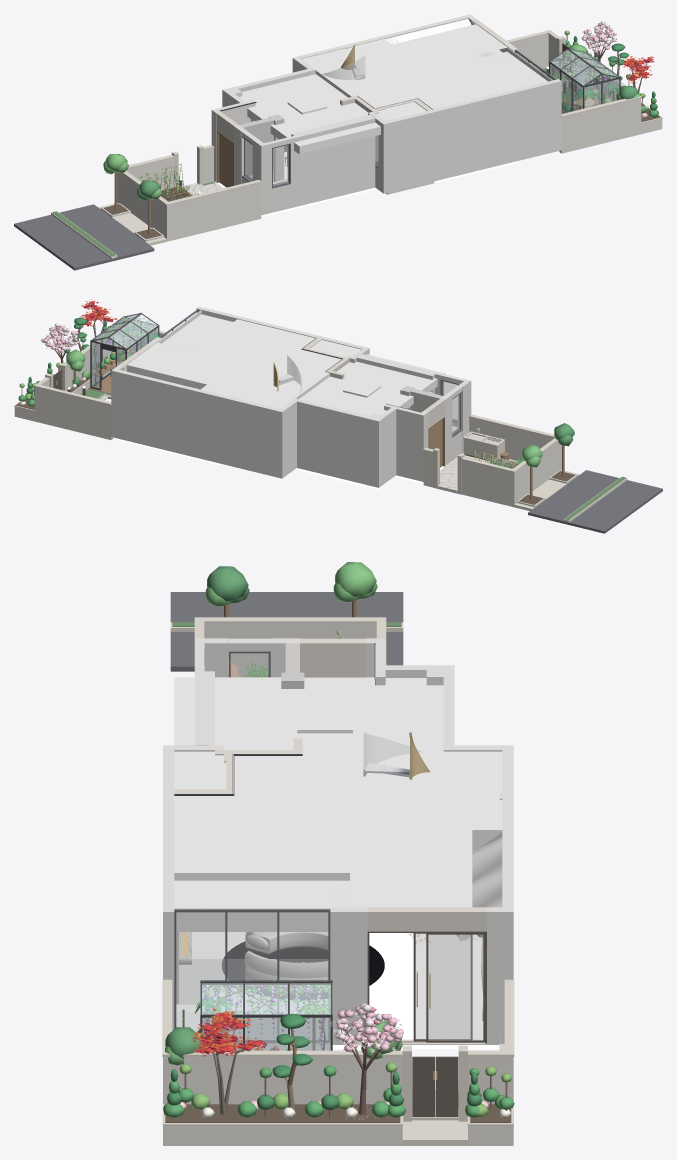
The picture shows the model from 3 angles, top to bottom: view 1: azimuth 30°, elevation 25°; view 2: azimuth 150°, elevation 25°; view 3: azimuth 270°, elevation 25°; orthographic projection. The views are drawn at different scales.
Visible parts, largest first — view 1: 1F_Walls_Manifold_Batch_M4 (×2), 1F_Living_Ceiling_Batch_M47 (×2), 1F_BackGarden_Batch_M96, 1F_BackGarden_Batch_M103, 1F_FrontGarden_Batch_M96, 1F_FrontGarden_Batch_M104 (×2), 1F_BackGarden_Batch_M8, 1F_Kaspar_Ceiling_Batch_M47, 1F_Foyer_Batch_M22, 1F_Walls_Manifold_Batch_M3, 1F_FrontGarden_Batch_M8, 1F_FrontGarden_Batch_M13 (+11 smaller); view 2: 1F_Walls_Manifold_Batch_M4 (×2), 1F_Living_Ceiling_Batch_M47 (×2), 1F_BackGarden_Batch_M96, 1F_BackGarden_Batch_M103, 1F_FrontGarden_Batch_M96, 1F_BackGarden_Batch_M8, 1F_FrontGarden_Batch_M104 (×2), 1F_Kaspar_Ceiling_Batch_M47, 1F_BackGarden_Batch_M18, 1F_FrontGarden_Batch_M8, 1F_FrontGarden_Batch_M13, 1F_Foyer_Batch_M22 (+10 smaller); view 3: 1F_Living_Ceiling_Batch_M47 (×2), 1F_Walls_Manifold_Batch_M4 (×2), 1F_FrontGarden_Batch_M96, 1F_Slab_Batch_M0, 1F_VentShaft_Batch_M3, 1F_FrontGarden_Batch_M104 (×2), 1F_Kaspar_Ceiling_Batch_M47, 1F_FrontGarden_Batch_M8, 1F_BackGarden_Batch_M103, 1F_Front_Entry_Door_LeafN_Glass, 1F_Front_Entry_Door_LeafS_Glass, 1F_VentShaft_Batch_M6 (+23 smaller).
Part boxes in pixels (x1,y1,x2,y2): 1F_Walls_Manifold_Batch_M4 (×2): (211, 14, 561, 215); 1F_Living_Ceiling_Batch_M47 (×2): (239, 19, 552, 154); 1F_BackGarden_Batch_M96: (117, 148, 261, 241); 1F_BackGarden_Batch_M103: (14, 204, 154, 270); 1F_FrontGarden_Batch_M96: (510, 34, 662, 153); 1F_FrontGarden_Batch_M104 (×2): (550, 49, 619, 113); 1F_BackGarden_Batch_M8: (51, 145, 261, 258); 1F_Kaspar_Ceiling_Batch_M47: (474, 51, 547, 89); 1F_Foyer_Batch_M22: (239, 114, 284, 181); 1F_Walls_Manifold_Batch_M3: (245, 135, 378, 185); 1F_FrontGarden_Batch_M8: (506, 30, 662, 123); 1F_FrontGarden_Batch_M13: (549, 48, 620, 111); 1F_Walls_Manifold_Batch_M4 (×2): (111, 306, 471, 487); 1F_Living_Ceiling_Batch_M47 (×2): (122, 310, 444, 416); 1F_BackGarden_Batch_M96: (423, 417, 561, 507); 1F_BackGarden_Batch_M103: (528, 470, 662, 533); 1F_FrontGarden_Batch_M96: (14, 329, 165, 439); 1F_BackGarden_Batch_M8: (423, 414, 627, 522); 1F_FrontGarden_Batch_M104 (×2): (91, 314, 158, 388); 1F_Kaspar_Ceiling_Batch_M47: (162, 314, 232, 350); 1F_BackGarden_Batch_M18: (435, 431, 577, 507); 1F_FrontGarden_Batch_M8: (14, 326, 169, 411); 1F_FrontGarden_Batch_M13: (90, 312, 159, 390); 1F_Foyer_Batch_M22: (400, 386, 443, 412); 1F_Living_Ceiling_Batch_M47 (×2): (174, 677, 502, 924); 1F_Walls_Manifold_Batch_M4 (×2): (163, 638, 513, 1044); 1F_FrontGarden_Batch_M96: (163, 1057, 513, 1145); 1F_Slab_Batch_M0: (176, 932, 499, 1048); 1F_VentShaft_Batch_M3: (176, 912, 328, 1035); 1F_FrontGarden_Batch_M104 (×2): (200, 983, 332, 1050); 1F_Kaspar_Ceiling_Batch_M47: (174, 880, 349, 931); 1F_FrontGarden_Batch_M8: (162, 979, 514, 1145); 1F_BackGarden_Batch_M103: (170, 592, 403, 671); 1F_Front_Entry_Door_LeafN_Glass: (428, 935, 482, 1040); 1F_Front_Entry_Door_LeafS_Glass: (416, 934, 470, 1039); 1F_VentShaft_Batch_M6: (177, 959, 327, 1003).
Bounding box in the file's own units: 28.2 × 4.39 × 7.56.
138 materials, 11 textured.
